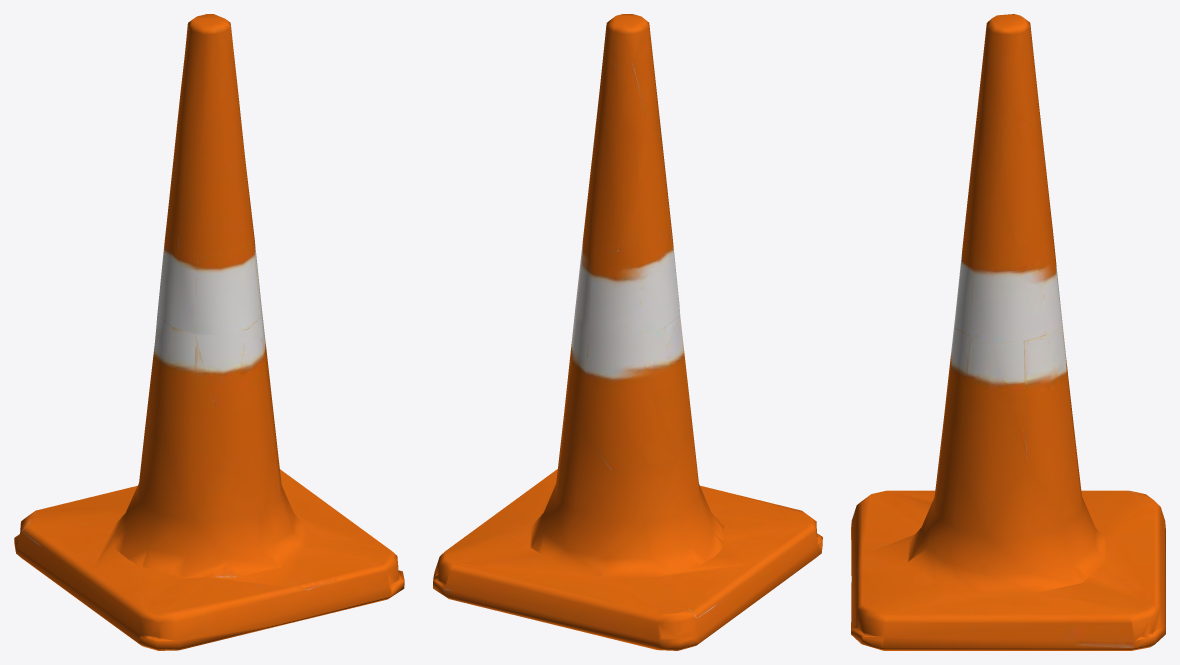
The picture shows the model from 3 angles, left to right: view 1: azimuth 30°, elevation 25°; view 2: azimuth 150°, elevation 25°; view 3: azimuth 270°, elevation 25°; orthographic projection. The views are drawn at different scales.
Size of the model in its own units: 0.9572 by 1.9 by 0.9569.
Materials: 1 (1 with a texture image).
